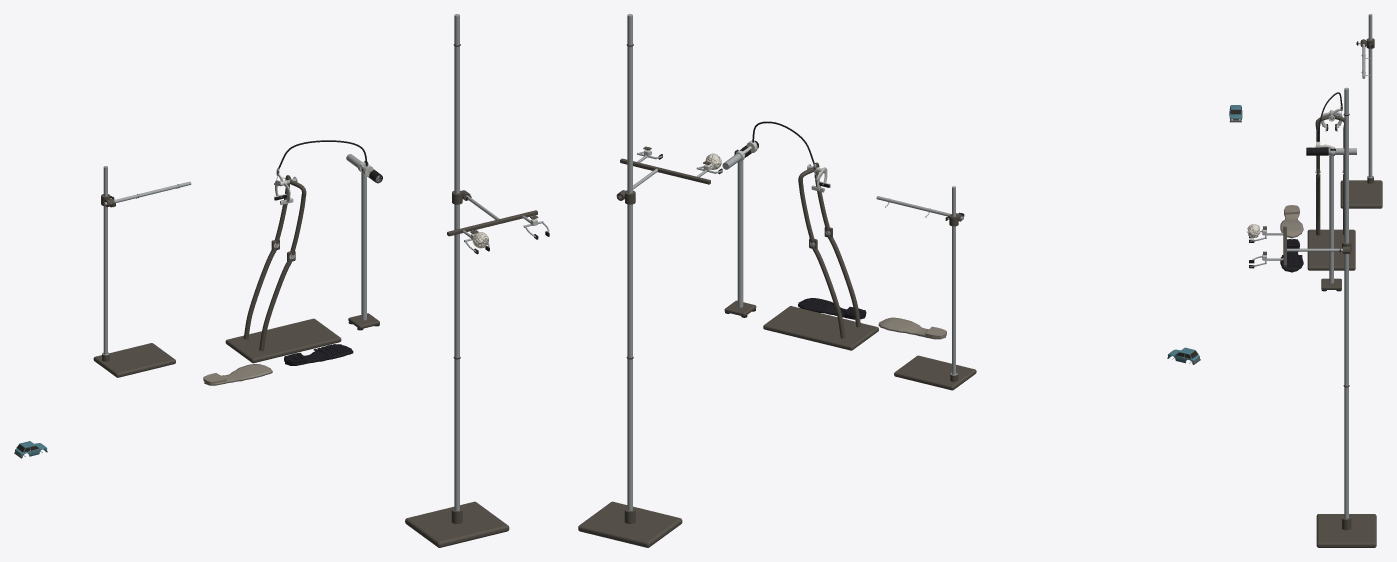
File: forces.glb
3 views of the same model, side by side, from view 1: azimuth 30°, elevation 25°; view 2: azimuth 150°, elevation 25°; view 3: azimuth 270°, elevation 25° (orthographic). The views are drawn at different scales.
Parts seen in each view (by area): view 1: wheel-stand, drop-stand, retort-stand, shoe-soles, release-clamps; view 2: wheel-stand, drop-stand, retort-stand, shoe-soles, release-clamps; view 3: drop-stand, wheel-stand, retort-stand, shoe-soles, release-clamps, toy-car, brake-caliper.
Boxes of the visible parts, x1,y1,x2,y2 form: wheel-stand: (225,154,382,363); drop-stand: (405,14,509,547); retort-stand: (93,166,191,377); shoe-soles: (203,344,353,385); release-clamps: (447,190,549,254); wheel-stand: (722,140,878,350); drop-stand: (578,14,682,547); retort-stand: (876,186,976,390); shoe-soles: (798,298,946,339); release-clamps: (616,146,722,204); drop-stand: (1316,87,1376,547); wheel-stand: (1306,113,1356,291); retort-stand: (1340,14,1382,208); shoe-soles: (1280,205,1303,272); release-clamps: (1249,226,1351,268); toy-car: (1229,105,1242,122); brake-caliper: (1321,106,1342,131).
Bounding box in the file's own units: 1.83 × 1.64 × 0.5115.
